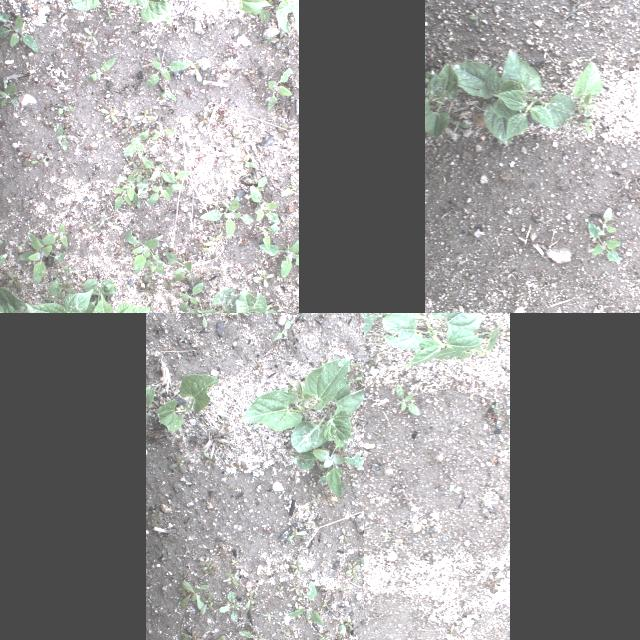crop: (241, 360, 349, 430), (494, 50, 574, 142), (381, 313, 500, 369), (444, 62, 522, 146), (291, 379, 364, 452), (156, 374, 218, 432), (424, 62, 458, 138), (24, 277, 95, 313), (83, 279, 150, 313), (247, 0, 298, 35), (181, 288, 247, 313), (233, 288, 296, 313), (574, 61, 602, 117), (0, 286, 53, 313), (192, 0, 273, 14), (118, 0, 169, 21), (146, 385, 154, 407)
weed: (290, 432, 364, 498), (17, 232, 65, 284), (200, 198, 254, 238), (124, 228, 166, 274), (259, 236, 299, 278), (146, 50, 190, 88), (112, 174, 154, 213), (146, 171, 190, 207), (250, 174, 282, 223), (290, 582, 324, 626), (588, 222, 620, 264), (0, 16, 37, 52), (265, 68, 293, 110), (166, 251, 200, 283), (142, 156, 178, 184), (245, 222, 279, 250), (180, 580, 208, 610), (179, 280, 204, 313), (124, 129, 150, 157), (396, 385, 420, 415), (218, 592, 240, 622), (90, 58, 116, 82), (41, 225, 69, 247), (196, 230, 224, 252), (0, 77, 18, 109), (270, 28, 292, 52), (131, 162, 153, 185), (598, 207, 616, 235), (229, 154, 259, 170), (151, 122, 177, 140), (251, 0, 272, 22), (185, 58, 203, 82), (57, 280, 77, 300), (168, 454, 188, 474), (253, 270, 275, 288), (273, 319, 291, 341), (56, 122, 68, 152), (286, 527, 308, 543), (338, 624, 360, 640), (133, 110, 157, 124), (5, 270, 23, 288), (120, 118, 138, 136), (226, 128, 242, 148), (563, 4, 583, 20), (84, 27, 100, 46), (161, 85, 177, 104), (22, 150, 38, 168), (278, 122, 296, 138), (240, 70, 258, 86), (468, 8, 484, 26), (344, 354, 360, 372), (289, 558, 305, 576), (347, 560, 361, 580), (102, 108, 118, 124), (56, 104, 74, 118), (280, 183, 298, 197), (194, 313, 209, 329), (239, 631, 265, 640), (275, 103, 291, 117), (126, 154, 140, 170), (198, 112, 212, 128), (222, 572, 238, 586), (206, 592, 222, 606), (138, 282, 156, 294), (244, 591, 256, 609), (200, 597, 212, 615), (202, 452, 215, 468), (338, 528, 352, 542), (579, 118, 591, 134), (188, 628, 204, 640), (368, 313, 388, 322), (105, 32, 122, 42), (73, 42, 85, 56), (186, 86, 198, 100), (202, 564, 216, 576), (150, 512, 162, 526), (291, 579, 301, 595), (359, 541, 364, 571), (32, 154, 46, 164), (228, 42, 238, 56), (454, 122, 468, 132), (310, 492, 320, 506), (285, 626, 295, 640), (180, 634, 202, 640), (345, 614, 353, 630), (575, 115, 587, 125), (563, 116, 573, 128), (448, 112, 458, 124), (537, 155, 549, 165), (236, 462, 248, 472), (198, 557, 210, 567), (0, 11, 10, 22), (107, 9, 117, 19), (425, 72, 433, 84), (275, 586, 283, 598), (263, 612, 275, 620), (316, 632, 328, 640), (355, 371, 364, 381), (322, 600, 331, 610), (178, 588, 186, 598), (630, 90, 636, 102), (208, 636, 225, 640), (230, 560, 238, 568), (534, 88, 544, 94), (302, 522, 314, 526), (254, 586, 258, 598), (338, 630, 342, 640), (603, 270, 609, 276), (63, 0, 73, 3), (320, 466, 334, 468), (446, 140, 452, 144)
